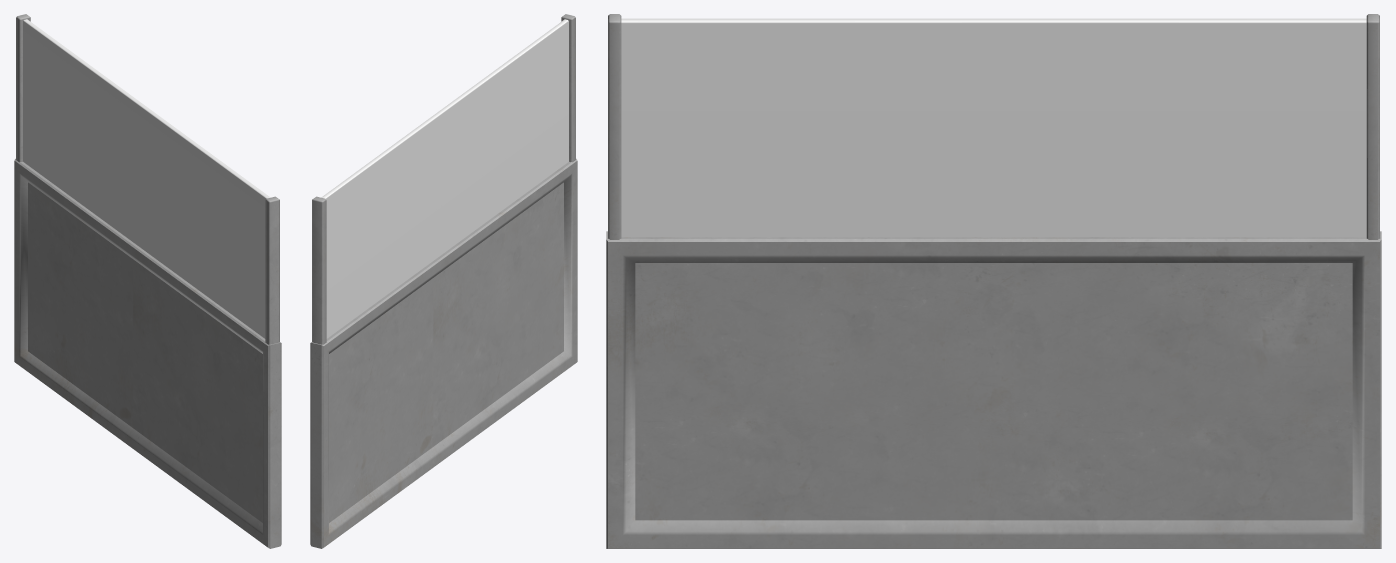
Rendered from SM_Desk_Partition_4X.fbx.
3 views of the same model, side by side, from view 1: azimuth 30°, elevation 25°; view 2: azimuth 150°, elevation 25°; view 3: azimuth 270°, elevation 25° (orthographic). The views are drawn at different scales.
Parts seen in each view (by area): view 1: SM_Desk_Partition_4X_LOD0; view 2: SM_Desk_Partition_4X_LOD0; view 3: SM_Desk_Partition_4X_LOD0.
Part boxes in pixels (bbox=[...]): SM_Desk_Partition_4X_LOD0: bbox=[14, 14, 281, 548]; SM_Desk_Partition_4X_LOD0: bbox=[310, 14, 577, 548]; SM_Desk_Partition_4X_LOD0: bbox=[606, 14, 1381, 548].
Bounding box in the file's own units: 6.05 × 200 × 150.
2 materials, 1 textured.
